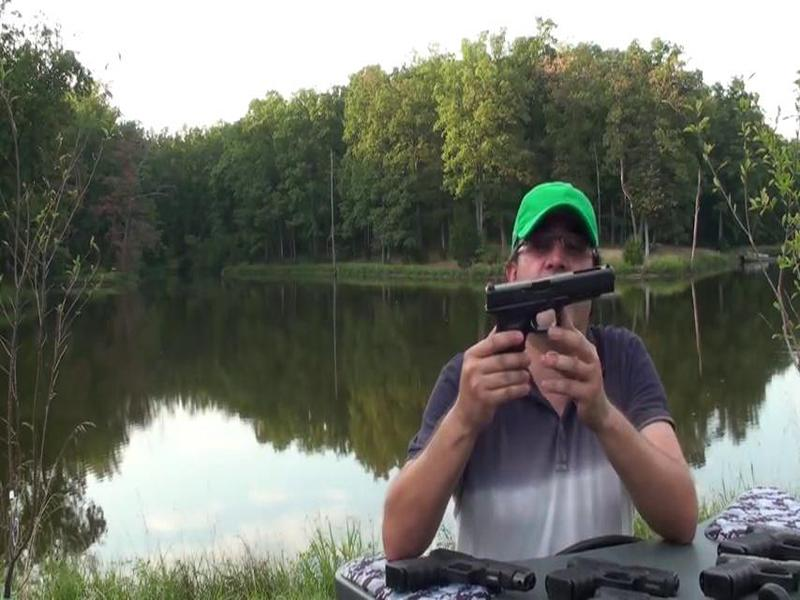Pistola: (483, 264, 617, 355), (379, 542, 536, 600), (540, 536, 678, 600)
